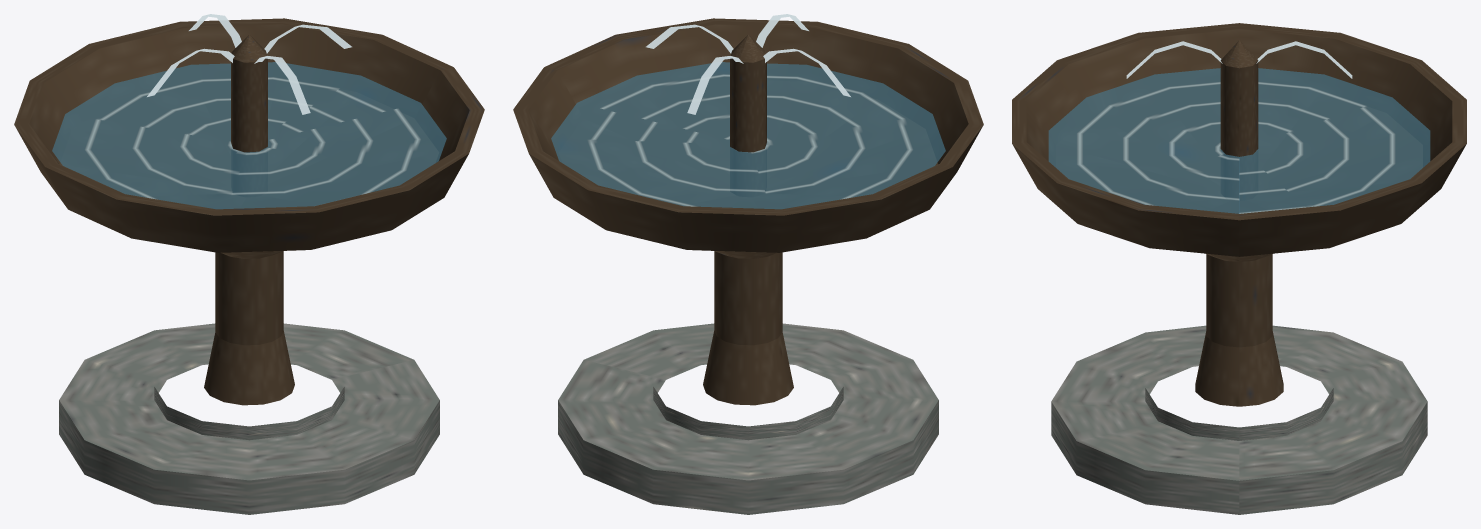
File: brunnen_v3.glb
The picture shows the model from 3 angles, left to right: view 1: azimuth 30°, elevation 25°; view 2: azimuth 150°, elevation 25°; view 3: azimuth 270°, elevation 25°; orthographic projection.
Parts seen in each view (by area): view 1: V3; view 2: V3; view 3: V3.
Boxes of the visible parts, <box> form: V3: <box>14,14,484,514</box>; V3: <box>513,14,983,514</box>; V3: <box>1012,23,1466,514</box>.
Size of the model in its own units: 1.24 by 1.16 by 1.21.
2 materials, 2 textured.
